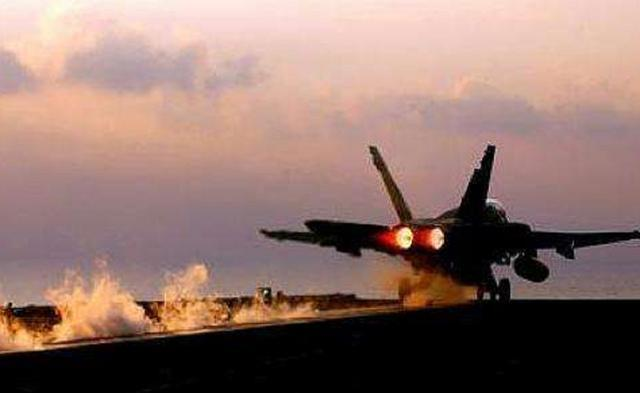airplane: (255, 140, 640, 304)
